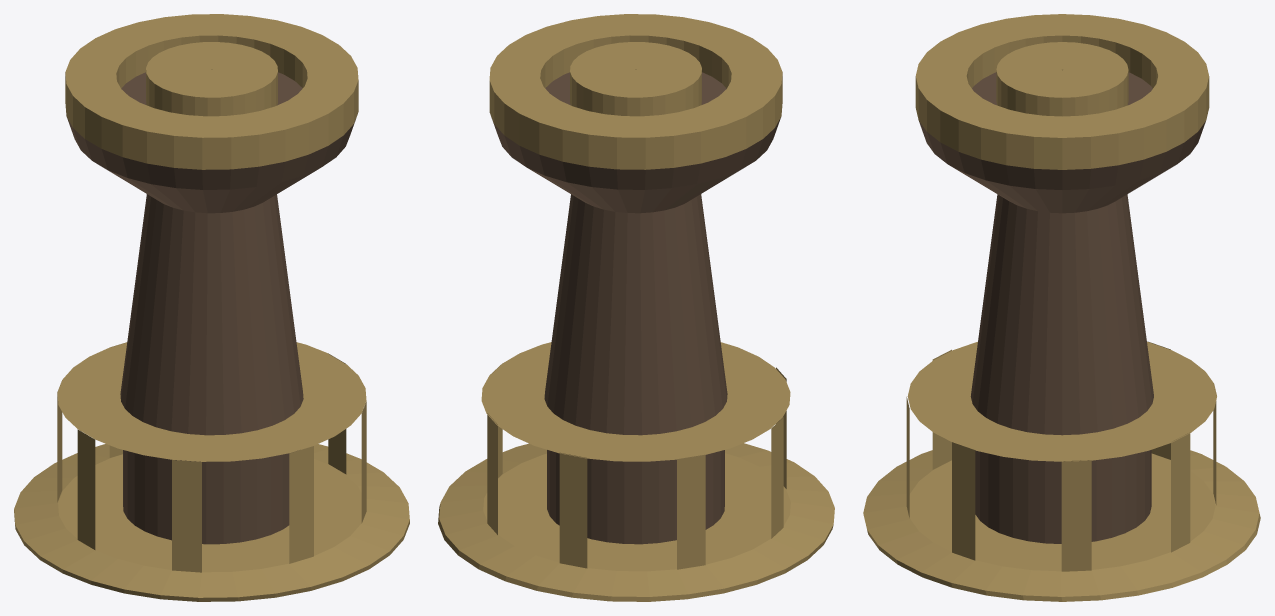
The model's file is tower.fbx.
The picture shows the model from 3 angles, left to right: view 1: azimuth 30°, elevation 25°; view 2: azimuth 150°, elevation 25°; view 3: azimuth 270°, elevation 25°; orthographic projection.
Visible parts, largest first — view 1: Cylinder, Cylinder.001, Cylinder.002; view 2: Cylinder, Cylinder.001, Cylinder.002; view 3: Cylinder, Cylinder.001, Cylinder.002.
Boxes of the visible parts, box(x1,y1,x2,y2) form: Cylinder: box(14, 14, 409, 601); Cylinder.001: box(120, 194, 303, 435); Cylinder.002: box(121, 72, 302, 105); Cylinder: box(438, 14, 834, 601); Cylinder.001: box(544, 194, 727, 435); Cylinder.002: box(545, 72, 726, 105); Cylinder: box(863, 14, 1260, 601); Cylinder.001: box(970, 194, 1153, 435); Cylinder.002: box(972, 72, 1152, 105).
Size of the model in its own units: 891 by 1109 by 892.
